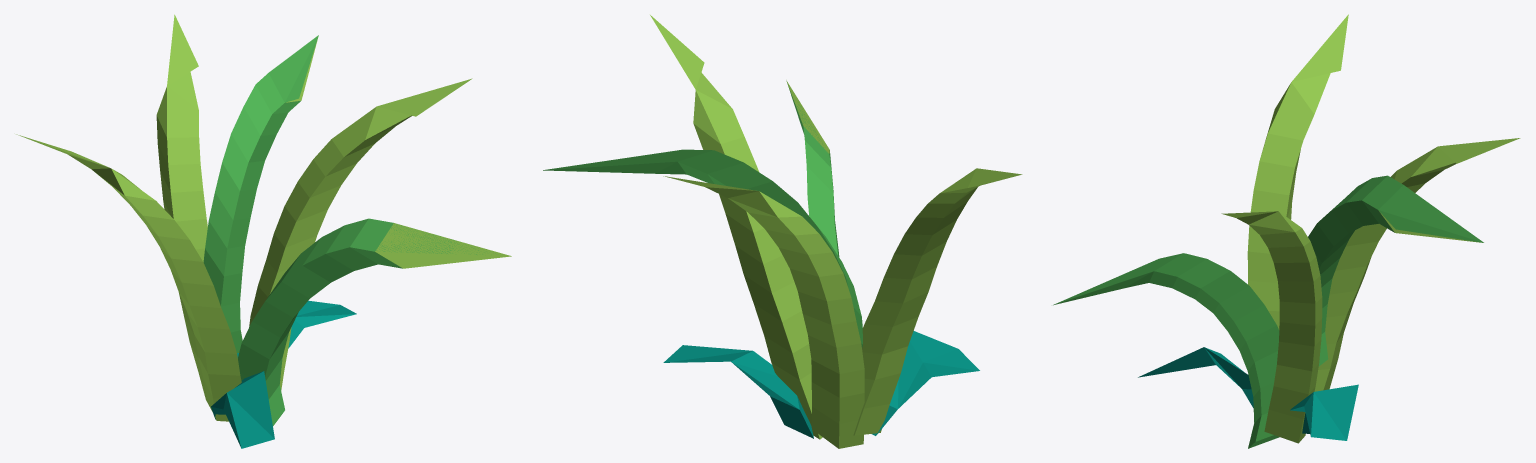
The model's file is scene_PKkZ6YJOak.glb.
3 views of the same model, side by side, from view 1: azimuth 30°, elevation 25°; view 2: azimuth 150°, elevation 25°; view 3: azimuth 270°, elevation 25° (orthographic). The views are drawn at different scales.
Parts seen in each view (by area): view 1: group1957361178, group1633799128, group1204357037, group1184504723, group327488125, group3752167, group348717739; view 2: group327488125, group1204357037, group1184504723, group1633799128, group348717739, group3752167, group1957361178; view 3: group1204357037, group1957361178, group1184504723, group1633799128, group327488125, group348717739, group3752167.
Boxes of the visible parts, x1,y1,x2,y2 form: group1957361178: (238, 218, 511, 425); group1633799128: (203, 35, 318, 353); group1204357037: (249, 78, 472, 390); group1184504723: (16, 134, 241, 421); group327488125: (156, 14, 212, 411); group3752167: (211, 371, 274, 448); group348717739: (237, 300, 356, 357); group327488125: (663, 176, 864, 448); group1204357037: (650, 15, 822, 439); group1184504723: (853, 168, 1022, 435); group1633799128: (543, 149, 862, 347); group348717739: (663, 345, 813, 438); group3752167: (872, 331, 979, 435); group1957361178: (786, 80, 839, 256); group1204357037: (1221, 211, 1322, 443); group1957361178: (1053, 253, 1279, 448); group1184504723: (1247, 14, 1348, 329); group1633799128: (1308, 175, 1483, 366); group327488125: (1314, 138, 1520, 391); group348717739: (1290, 384, 1358, 440); group3752167: (1138, 347, 1253, 407).
Bounding box in the file's own units: 0.0933 × 0.0718 × 0.0914.
